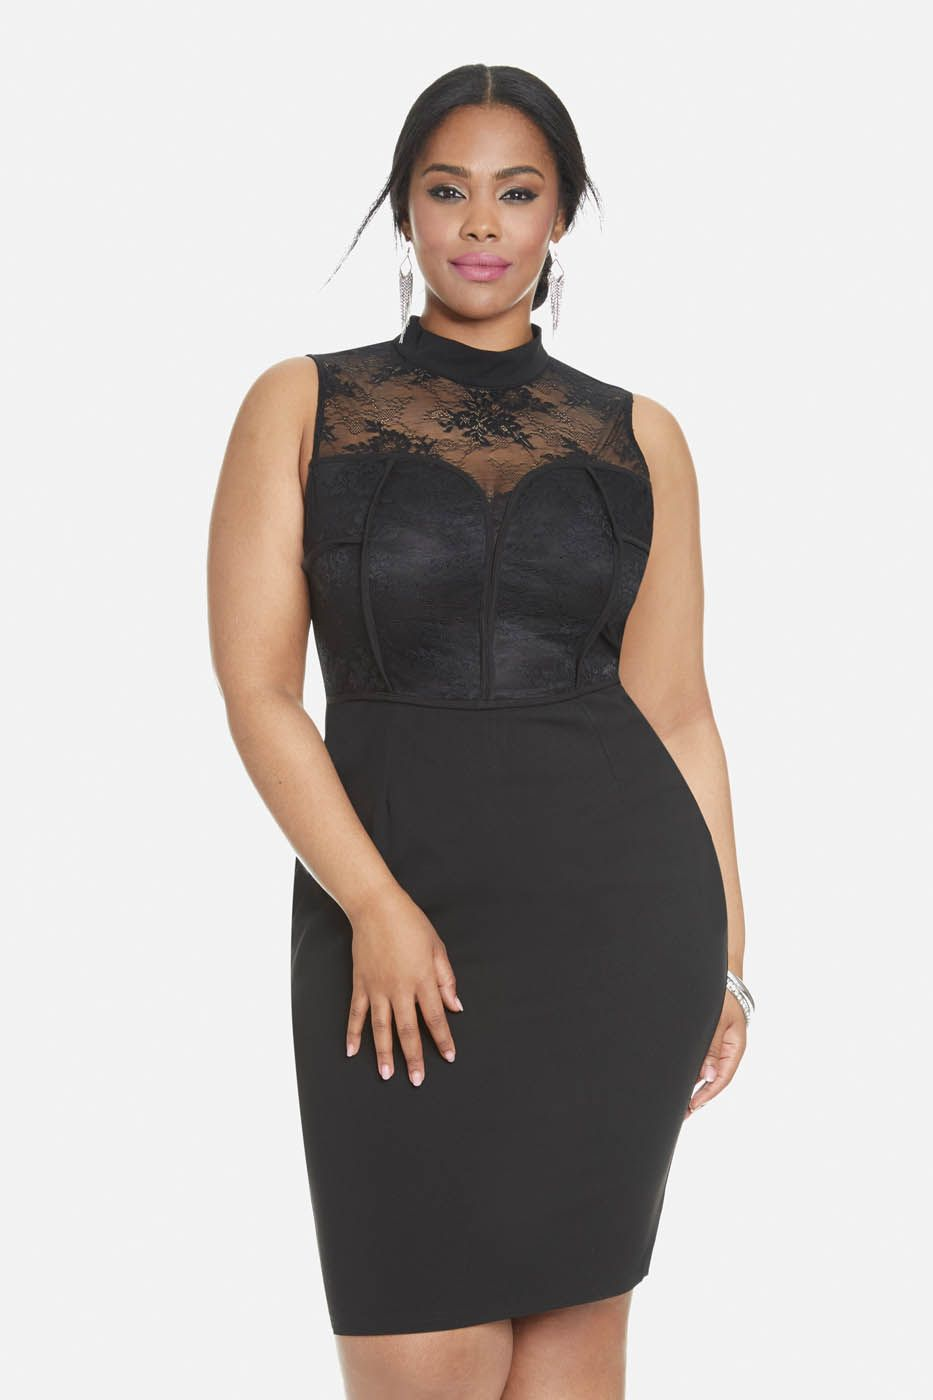S_dress: (208, 338, 757, 1244)
